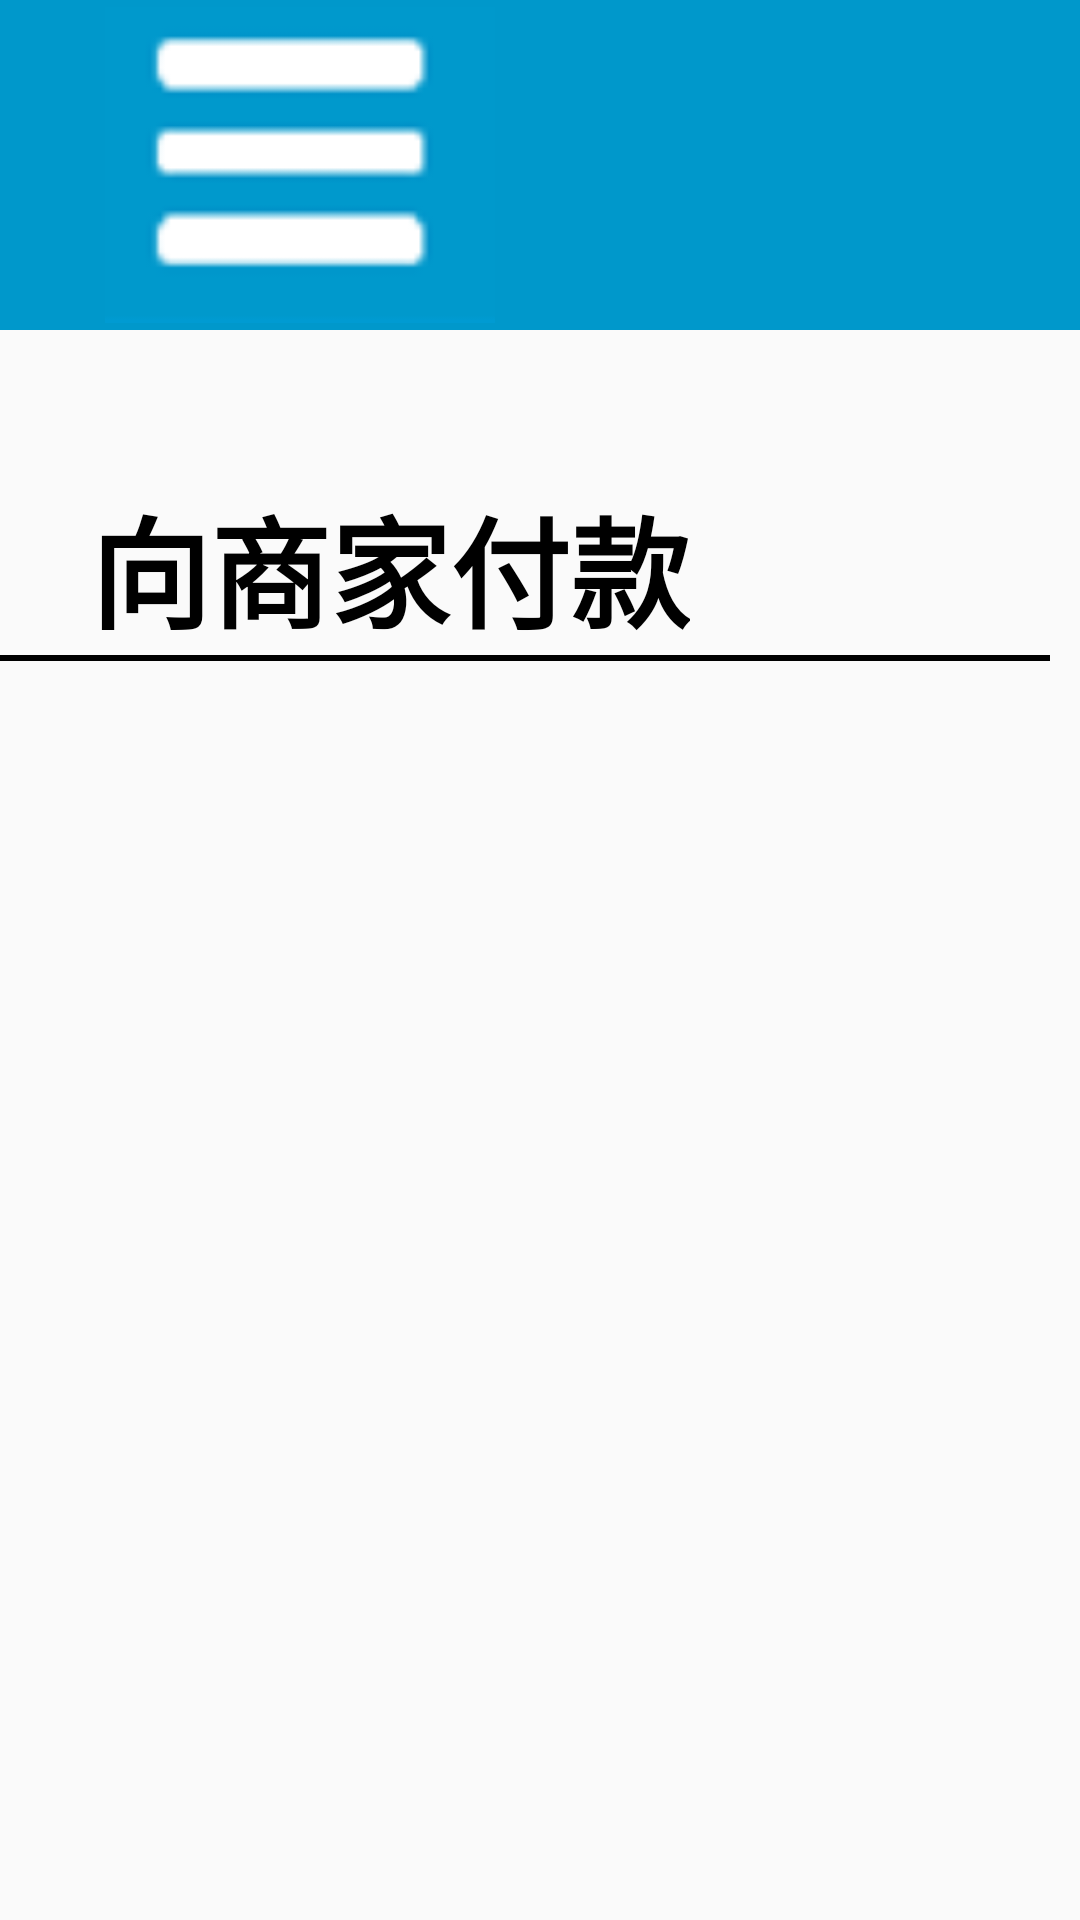

Icons on this 1080x1920 Android screen, each with its box as (x1, y1, x2, y2):
caidan: (154, 37, 428, 267)
